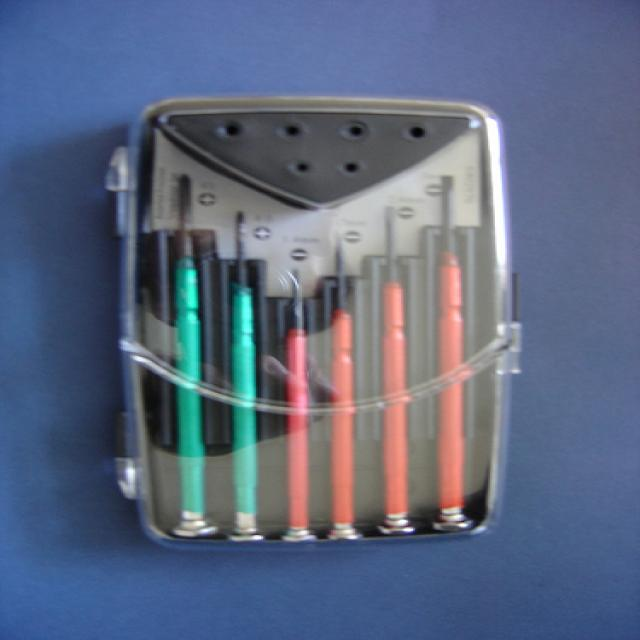screw driver: (152, 168, 233, 538), (420, 169, 500, 541), (354, 190, 420, 552), (262, 248, 331, 562)
